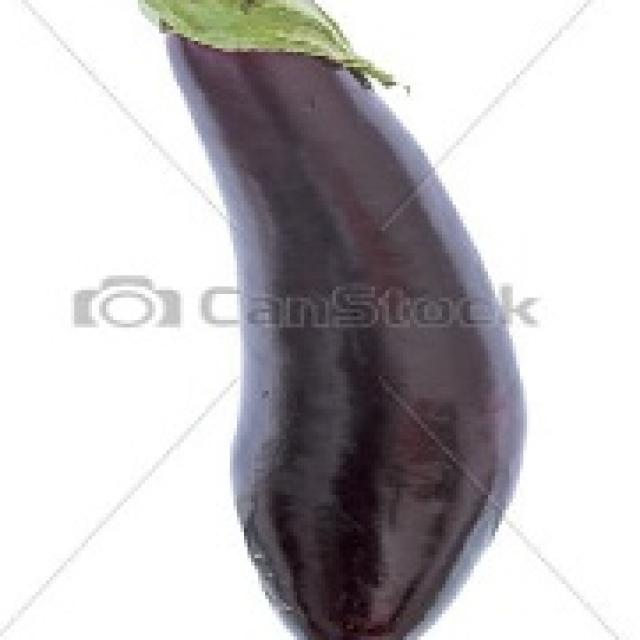eggplant: (138, 0, 527, 640)
